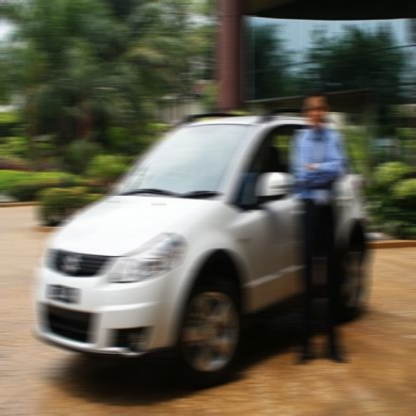Vehicle: (36, 109, 373, 390)
